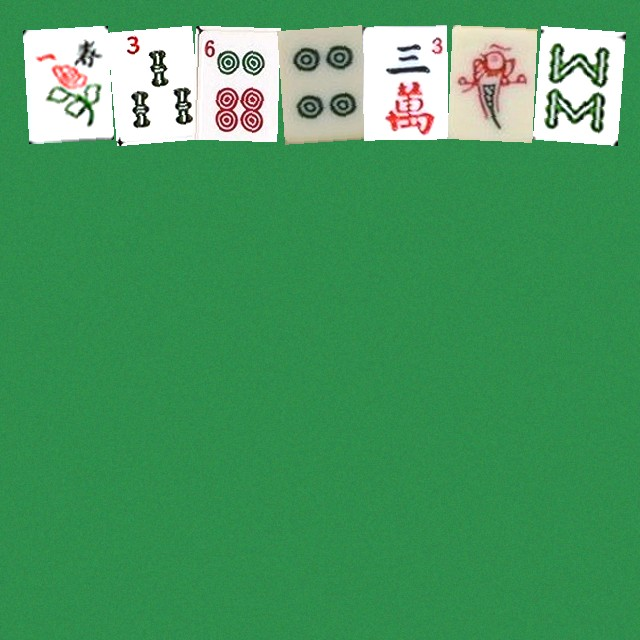tile: (22, 25, 107, 139), (107, 25, 192, 139), (192, 25, 277, 139), (277, 25, 362, 139), (362, 25, 447, 139), (447, 25, 532, 139), (532, 25, 617, 139)
